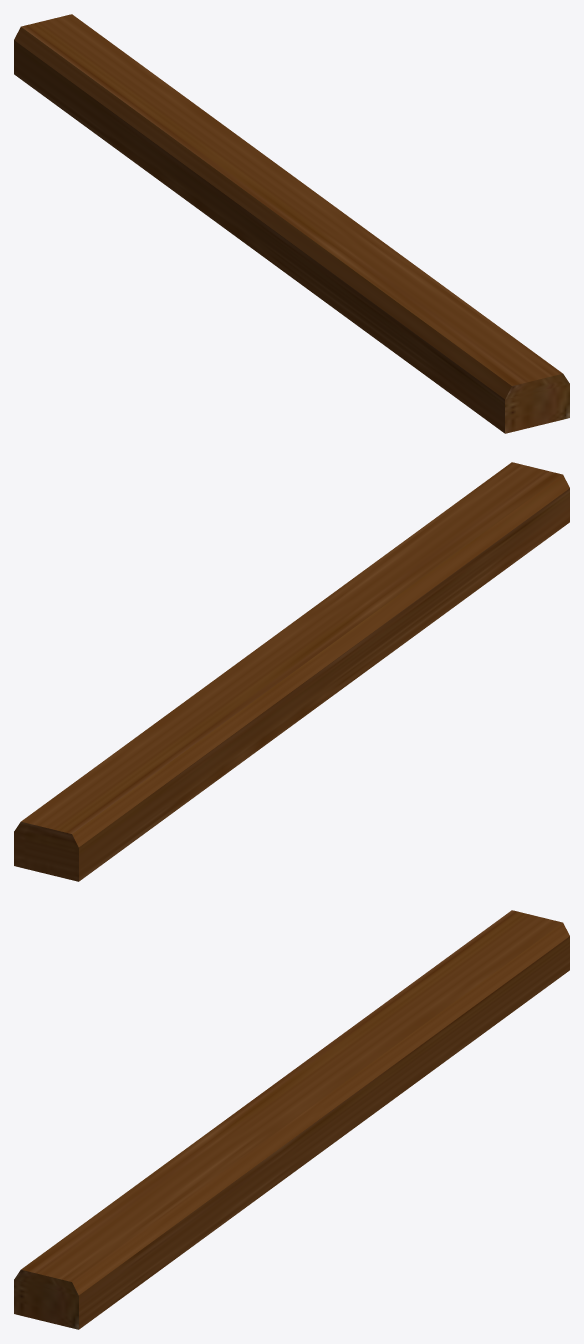
Rendered from Rails 2.fbx.
3 views of the same model, one above another, from view 1: azimuth 30°, elevation 25°; view 2: azimuth 150°, elevation 25°; view 3: azimuth 330°, elevation 25° (orthographic).
Visible parts, largest first — view 1: PorchRailLower; view 2: PorchRailLower; view 3: PorchRailLower.
Boxes of the visible parts, bbox=[...] form: PorchRailLower: bbox=[14, 14, 569, 433]; PorchRailLower: bbox=[14, 462, 569, 881]; PorchRailLower: bbox=[14, 910, 569, 1329].
Bounding box in the file's own units: 31.88 × 21.63 × 418.
